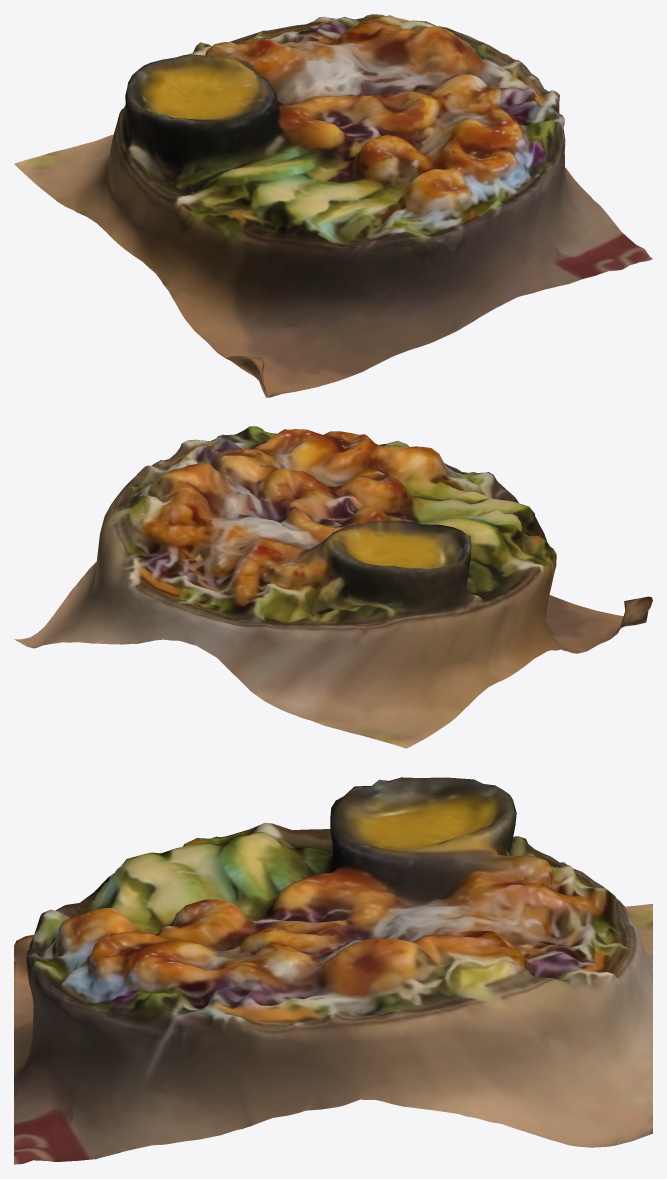
The model's file is shrimp.glb.
3 renders of one model, top to bottom at view 1: azimuth 30°, elevation 25°; view 2: azimuth 150°, elevation 25°; view 3: azimuth 270°, elevation 25°, orthographic. The views are drawn at different scales.
Visible parts, largest first — view 1: 3DModel; view 2: 3DModel; view 3: 3DModel.
Part boxes in pixels (bbox=[...]): 3DModel: bbox=[14, 14, 652, 397]; 3DModel: bbox=[14, 426, 652, 748]; 3DModel: bbox=[14, 777, 652, 1164].
Size of the model in its own units: 0.7612 by 0.3405 by 0.8296.
Materials: 1 (1 with a texture image).
